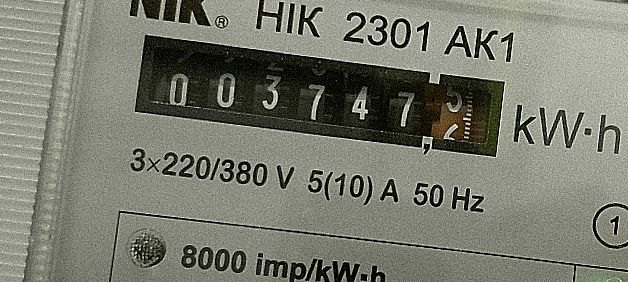0: (165, 70, 191, 107), (213, 69, 237, 109)
3: (259, 72, 282, 111)
4: (347, 81, 372, 123)
5: (442, 84, 465, 114)
6: (439, 119, 460, 142)
7: (390, 87, 417, 129), (302, 80, 326, 122)
screen: (123, 23, 521, 173)
